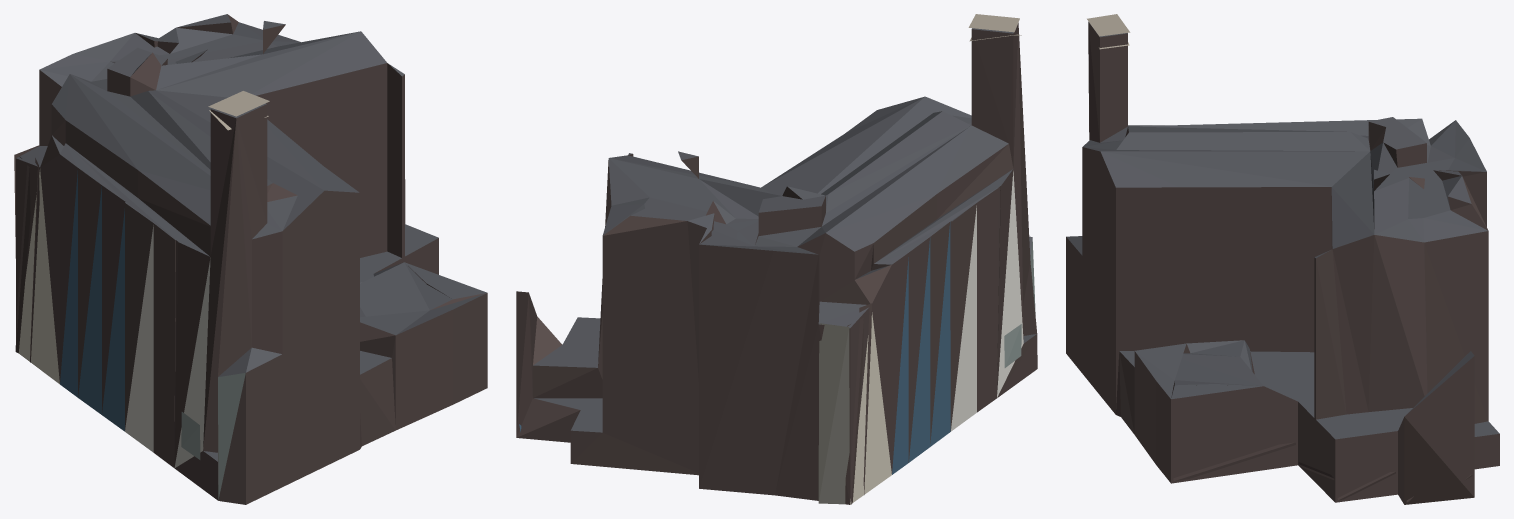
File: telegraaf-gebouw.lod2.glb
3 renders of one model, left to right at view 1: azimuth 30°, elevation 25°; view 2: azimuth 150°, elevation 25°; view 3: azimuth 270°, elevation 25°, orthographic. The views are drawn at different scales.
Parts seen in each view (by area): view 1: lod2; view 2: lod2; view 3: lod2.
Part boxes in pixels (x1,y1,x2,y2): lod2: (14, 14, 487, 504); lod2: (516, 14, 1037, 504); lod2: (1066, 14, 1499, 504).
Bounding box in the file's own units: 47.79 × 47.12 × 55.18.
